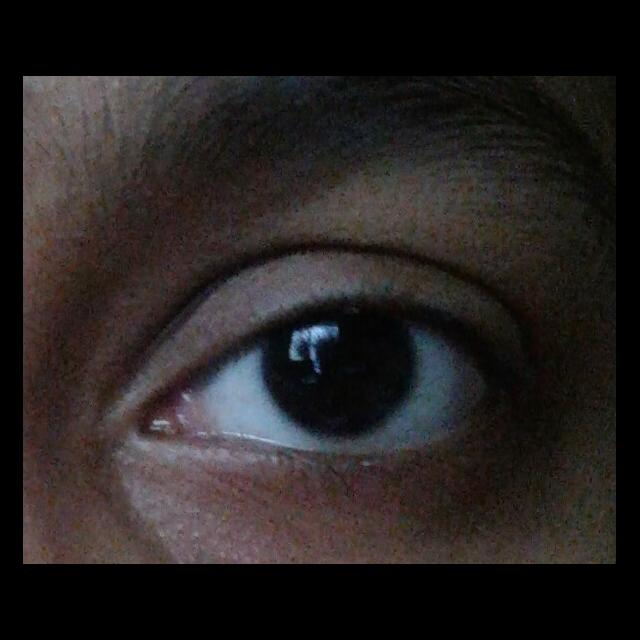eye: (190, 309, 488, 457)
iris: (266, 311, 415, 444)
